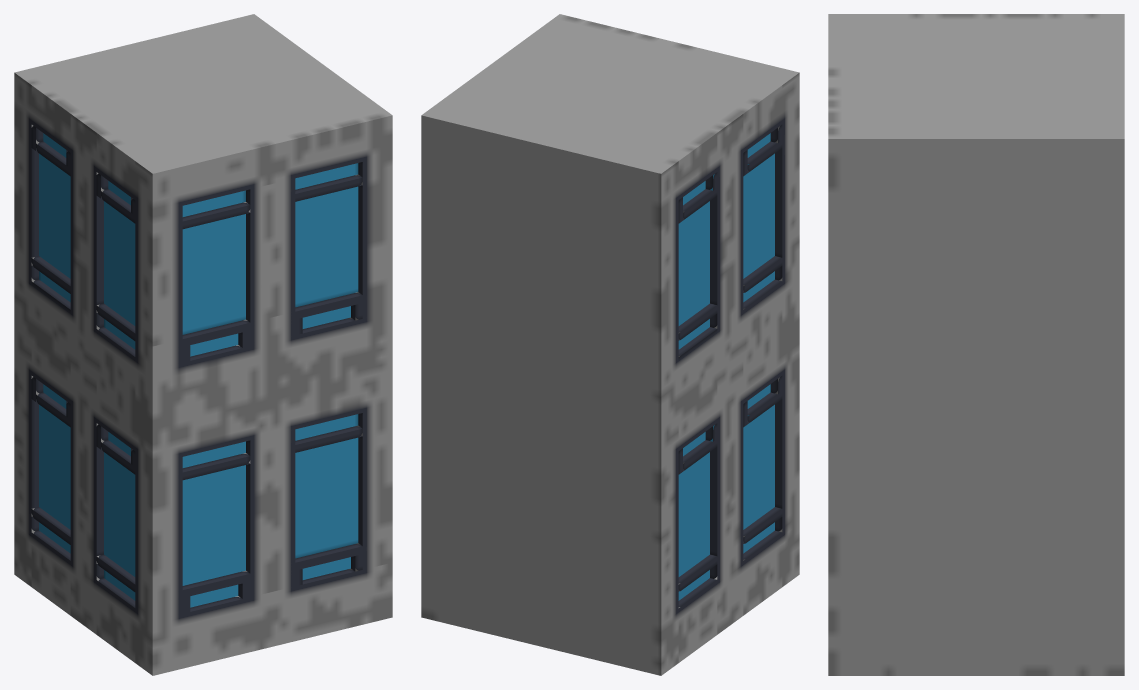
The model's file is okna_bok_front.dae.
The picture shows the model from 3 angles, left to right: view 1: azimuth 30°, elevation 25°; view 2: azimuth 150°, elevation 25°; view 3: azimuth 270°, elevation 25°; orthographic projection. The views are drawn at different scales.
Parts seen in each view (by area): view 1: Content; view 2: Content; view 3: Content.
Part boxes in pixels (bbox=[...]): Content: bbox=[14, 14, 392, 675]; Content: bbox=[421, 14, 799, 675]; Content: bbox=[828, 14, 1124, 675].
Bounding box in the file's own units: 32 × 64 × 32.
Materials: 1 (1 with a texture image).
